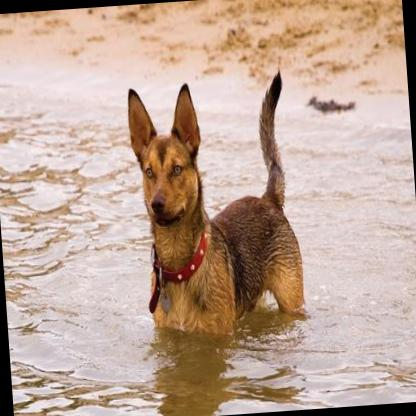kelpie: (124, 72, 308, 341)
